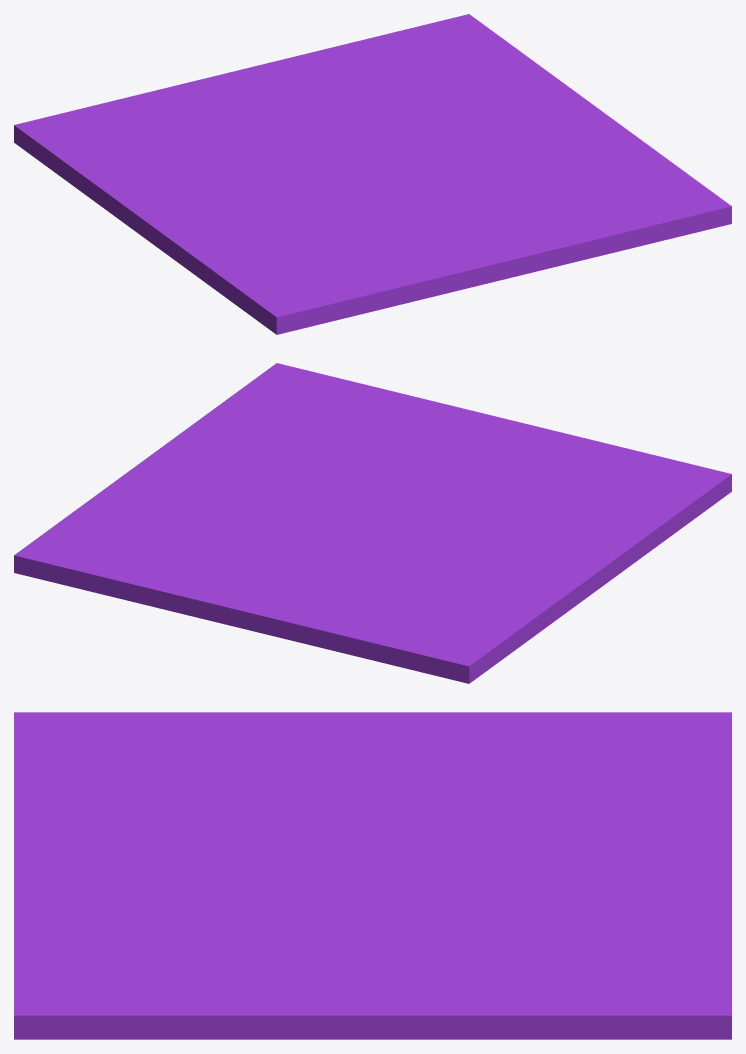
Rendered from Platform_24_chunks.fbx.
3 views of the same model, one above another, from view 1: azimuth 30°, elevation 25°; view 2: azimuth 150°, elevation 25°; view 3: azimuth 270°, elevation 25° (orthographic). The views are drawn at different scales.
Parts seen in each view (by area): view 1: Platform_24_8, Platform_24_7, Platform_24_6, Platform_24_0, Platform_24_3, Platform_24_2, Platform_24_10, Platform_24_5, Platform_24_17, Platform_24_4, Platform_24_12, Platform_24_15 (+7 smaller); view 2: Platform_24_8, Platform_24_7, Platform_24_0, Platform_24_6, Platform_24_2, Platform_24_3, Platform_24_10, Platform_24_5, Platform_24_4, Platform_24_12, Platform_24_11, Platform_24_17 (+7 smaller); view 3: Platform_24_8, Platform_24_7, Platform_24_6, Platform_24_5, Platform_24_0, Platform_24_2, Platform_24_3, Platform_24_10, Platform_24_4, Platform_24_12, Platform_24_11, Platform_24_17 (+7 smaller).
Boxes of the visible parts, x1,y1,x2,y2 form: Platform_24_8: (321,14,589,106); Platform_24_7: (137,50,389,153); Platform_24_6: (487,162,731,241); Platform_24_0: (14,95,316,193); Platform_24_3: (274,207,382,323); Platform_24_2: (151,152,379,219); Platform_24_10: (371,102,610,163); Platform_24_5: (448,117,671,183); Platform_24_17: (482,205,659,280); Platform_24_4: (379,151,490,250); Platform_24_12: (51,151,183,237); Platform_24_15: (371,231,499,311); Platform_24_8: (14,467,243,610); Platform_24_7: (162,535,374,649); Platform_24_0: (328,542,539,683); Platform_24_6: (217,363,380,462); Platform_24_2: (370,491,524,602); Platform_24_3: (454,448,723,518); Platform_24_10: (135,452,360,537); Platform_24_5: (155,406,350,494); Platform_24_4: (306,457,542,512); Platform_24_12: (457,562,599,639); Platform_24_11: (551,510,681,588); Platform_24_17: (380,388,509,444); Platform_24_8: (382,912,731,1039); Platform_24_7: (445,794,731,916); Platform_24_6: (14,899,240,1039); Platform_24_5: (137,910,361,1039); Platform_24_0: (447,712,731,844); Platform_24_2: (253,762,562,866); Platform_24_3: (14,717,280,839); Platform_24_10: (345,873,525,1039); Platform_24_4: (128,810,368,911); Platform_24_12: (375,712,631,767); Platform_24_11: (150,712,389,762); Platform_24_17: (14,860,161,946).
Size of the model in its own units: 810 by 29.87 by 810.
